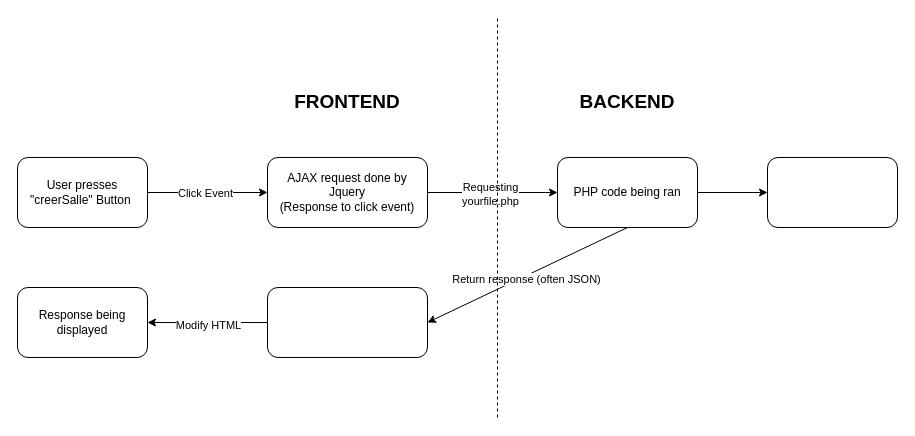
The diagram is 915 pixels wide and 436 high, and some of its shapes have lost their labels. The centre of each missing label's shape, as x and y in pixels:
Potentially modify Database: point 832,192
Response being handled by JQuery: point 347,322
